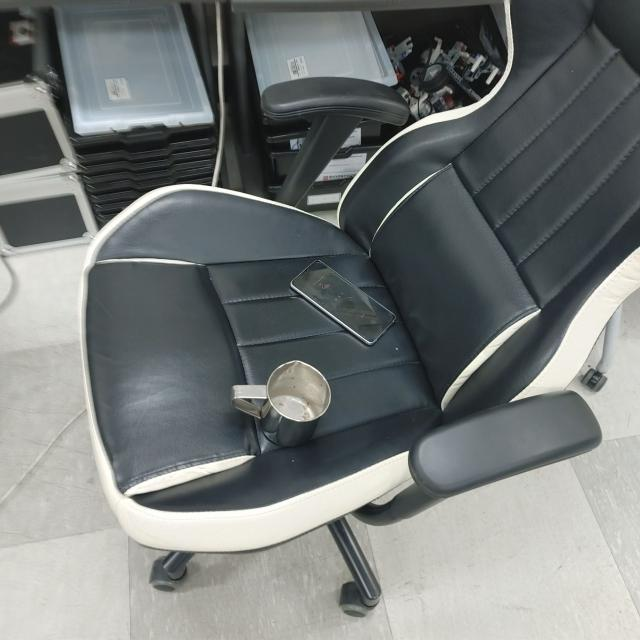cup: (232, 359, 331, 448)
phone: (290, 258, 398, 345)
